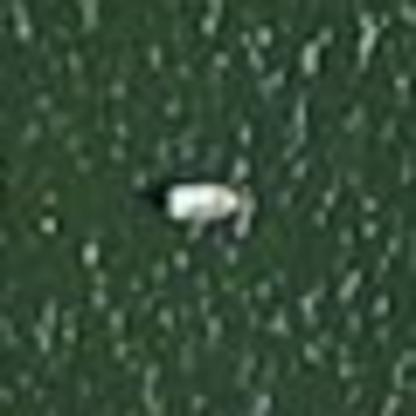ship: (150, 172, 254, 228)
